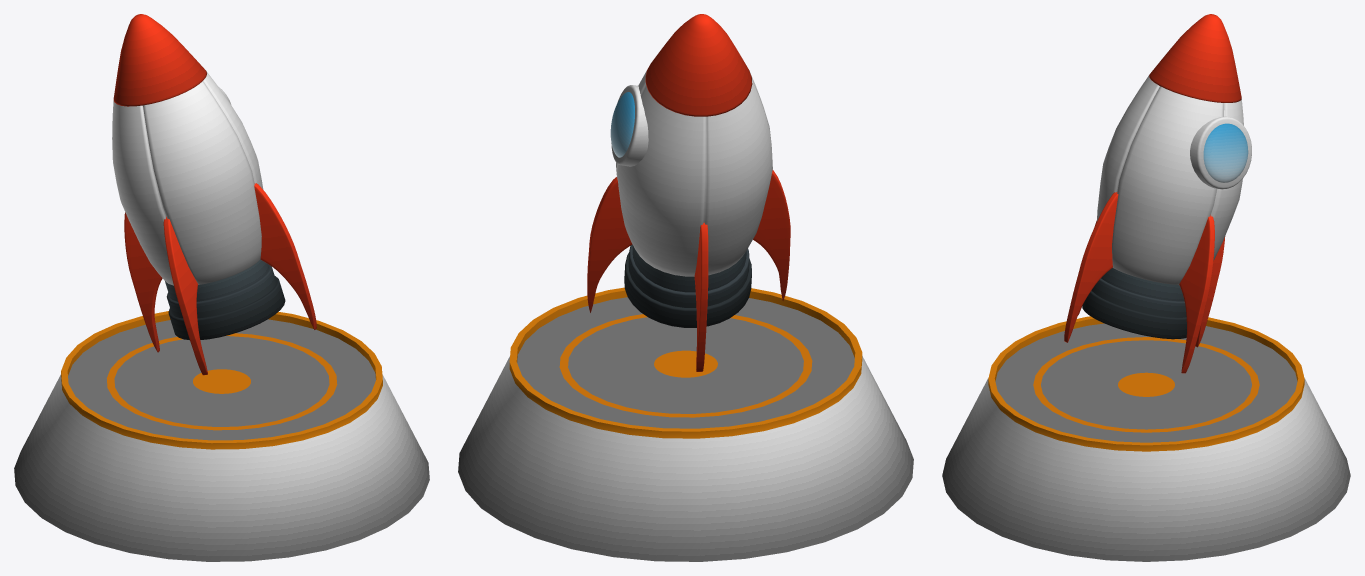
Rendered from rocket.glb.
3 views of the same model, side by side, from view 1: azimuth 30°, elevation 25°; view 2: azimuth 150°, elevation 25°; view 3: azimuth 270°, elevation 25° (orthographic). The views are drawn at different scales.
Visible parts, largest first — view 1: Cylinder, Body; view 2: Cylinder, Body; view 3: Cylinder, Body.
Boxes of the visible parts, x1,y1,x2,y2 form: Cylinder: (14,311,429,561); Body: (112,14,316,375); Cylinder: (458,287,913,561); Body: (587,14,790,371); Cylinder: (942,316,1350,561); Body: (1064,14,1251,373).
Bounding box in the file's own units: 8.16 × 9.65 × 8.16.
Materials: 1 (1 with a texture image).
